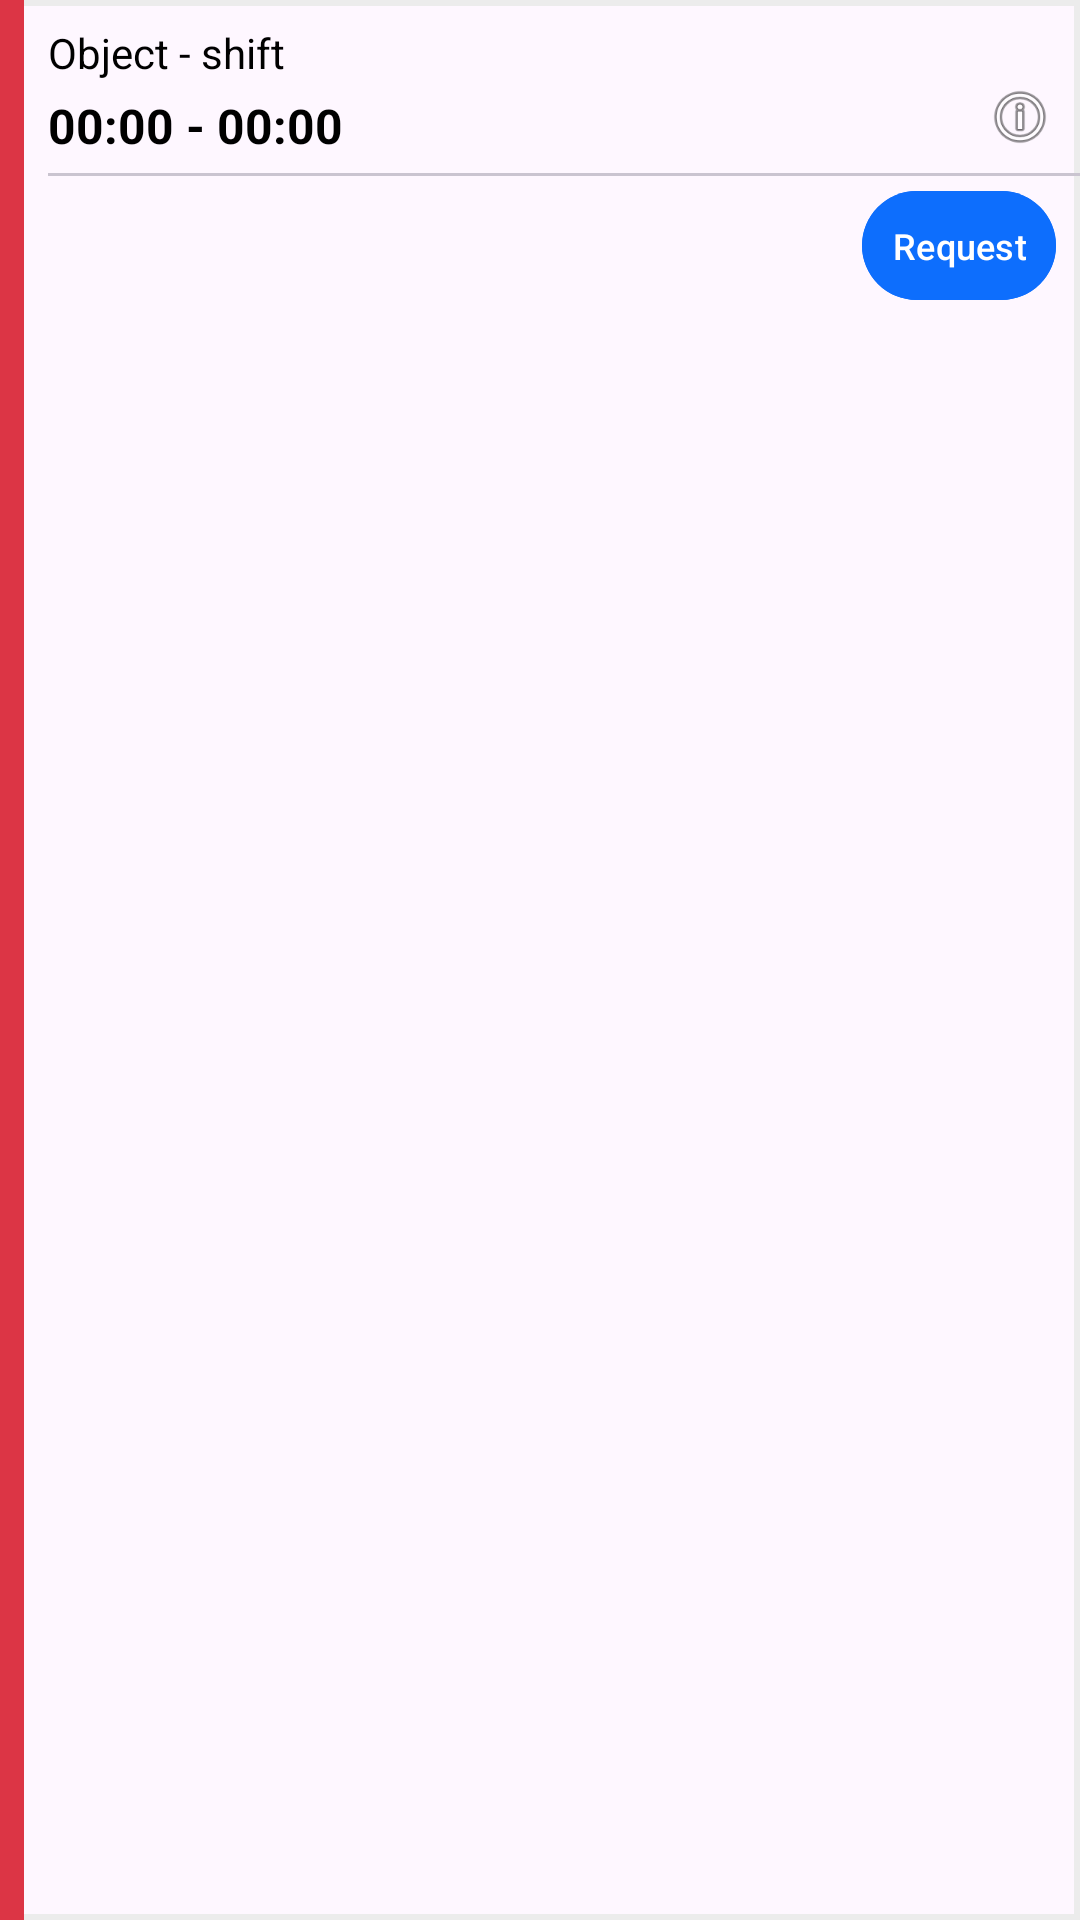

Named icons in this screenshot (1080 x 1920) and their bounding boxes, region(x1, y1, x2, y2):
info details: region(994, 91, 1046, 143)
